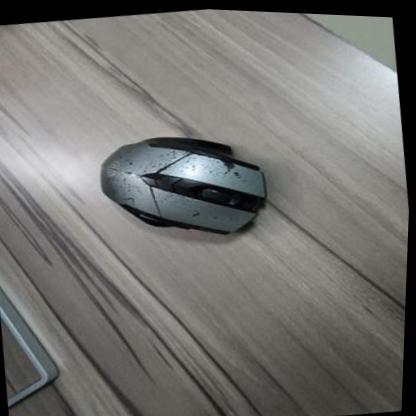mouserotation: (92, 118, 273, 248)
